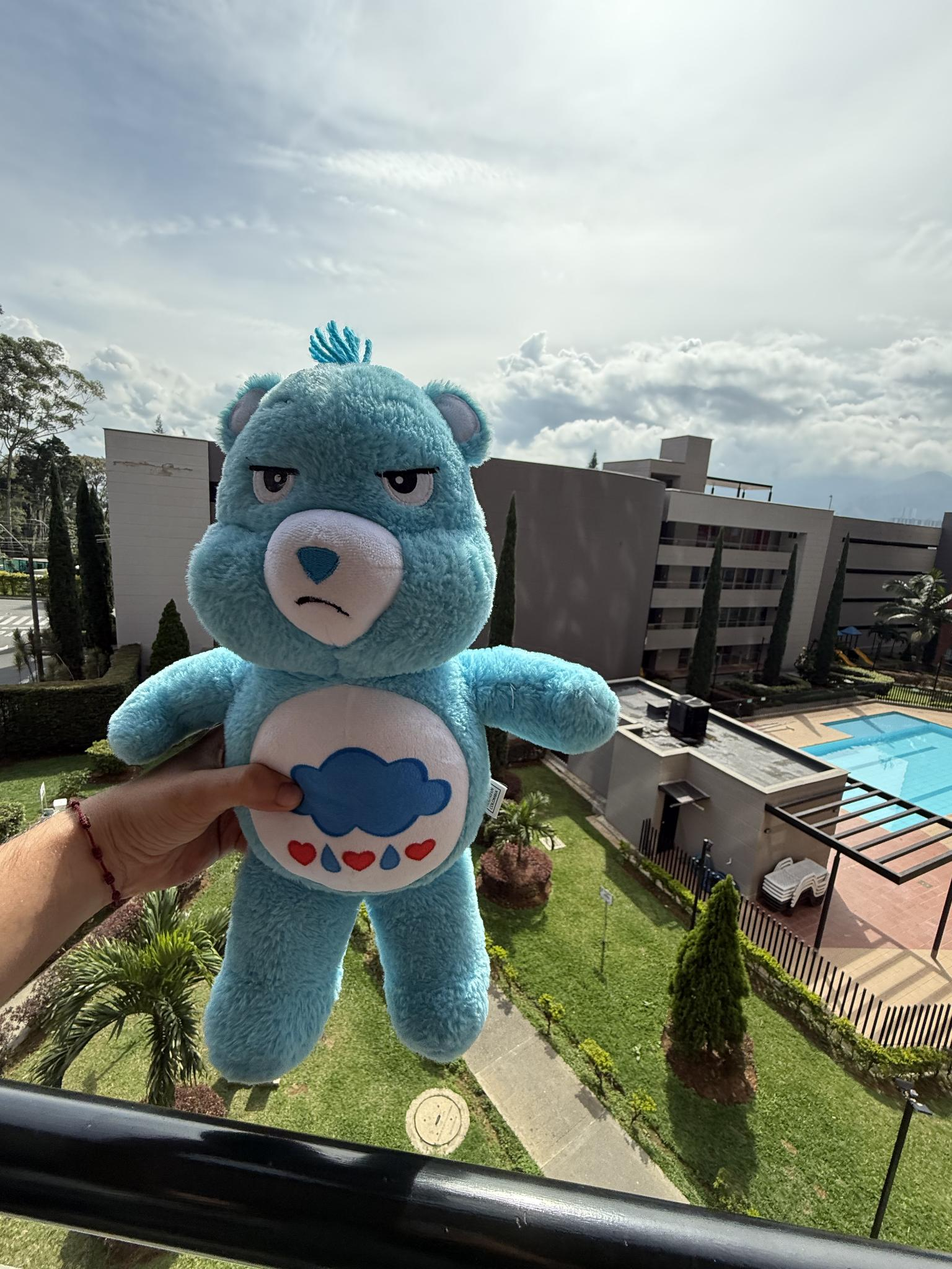peluche_Juan Jose: (195, 382, 524, 1064)
